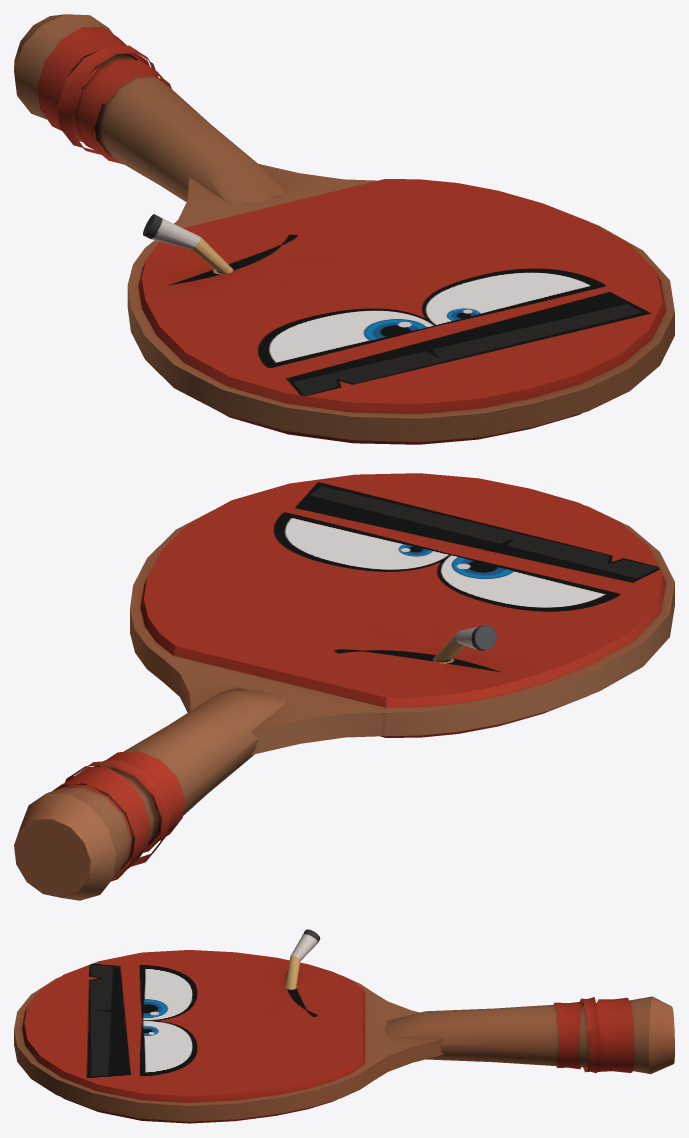
The model's file is pingpongrocket_new.fbx.
The picture shows the model from 3 angles, top to bottom: view 1: azimuth 30°, elevation 25°; view 2: azimuth 150°, elevation 25°; view 3: azimuth 270°, elevation 25°; orthographic projection. The views are drawn at different scales.
Parts seen in each view (by area): view 1: Circle.003; view 2: Circle.003; view 3: Circle.003.
Boxes of the visible parts, box(x1,y1,x2,y2) form: Circle.003: box(14, 14, 674, 444); Circle.003: box(14, 473, 674, 900); Circle.003: box(14, 929, 674, 1123).
Size of the model in its own units: 126 by 32.96 by 228.
